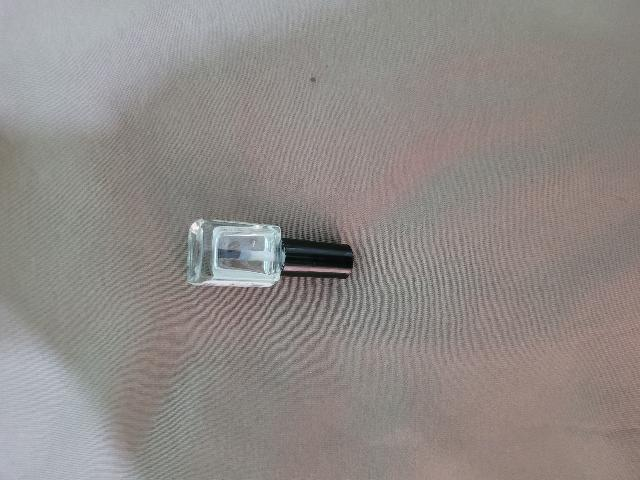Cam: (184, 210, 286, 296)
Plastik: (284, 235, 353, 285)
